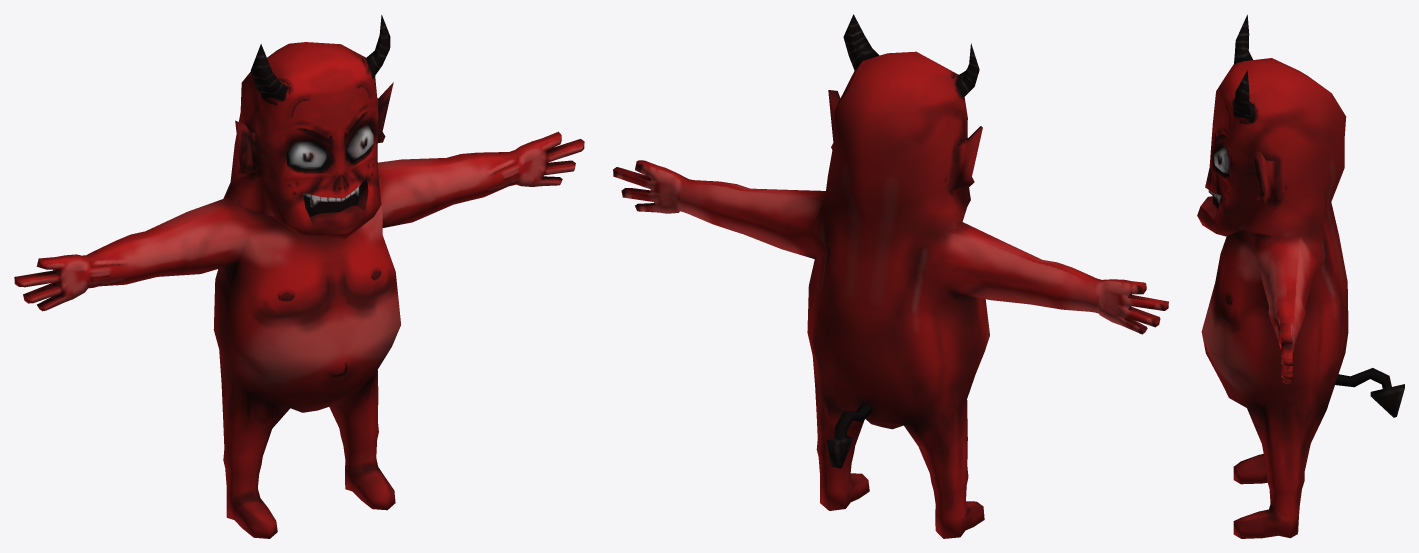
File: Normal Fat Demon.fbx
3 renders of one model, left to right at view 1: azimuth 30°, elevation 25°; view 2: azimuth 150°, elevation 25°; view 3: azimuth 270°, elevation 25°, orthographic. The views are drawn at different scales.
Visible parts, largest first — view 1: Normal Fat Demon; view 2: Normal Fat Demon; view 3: Normal Fat Demon.
Boxes of the visible parts, x1,y1,x2,y2 form: Normal Fat Demon: (14, 15, 584, 538); Normal Fat Demon: (613, 14, 1168, 538); Normal Fat Demon: (1197, 14, 1404, 538).
Bounding box in the file's own units: 337 × 279 × 113.
